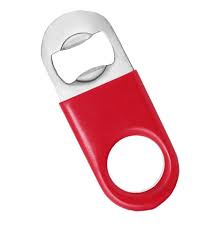bottleopener: (41, 10, 179, 211)
